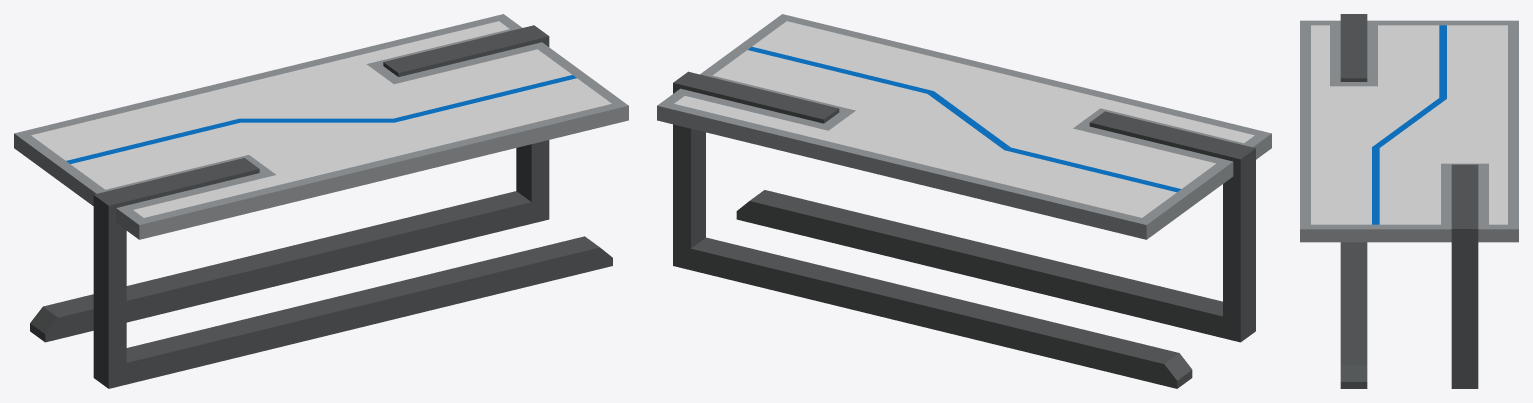
The model's file is Desk_023.glb.
3 renders of one model, left to right at view 1: azimuth 30°, elevation 25°; view 2: azimuth 150°, elevation 25°; view 3: azimuth 270°, elevation 25°, orthographic. The views are drawn at different scales.
Visible parts, largest first — view 1: Desk_023; view 2: Desk_023; view 3: Desk_023.
Part boxes in pixels (<box>): Desk_023: <box>14,14,628,388</box>; Desk_023: <box>657,14,1271,388</box>; Desk_023: <box>1300,14,1518,388</box>.
Size of the model in its own units: 2.44 by 0.8484 by 1.05.
2 materials, 2 textured.
